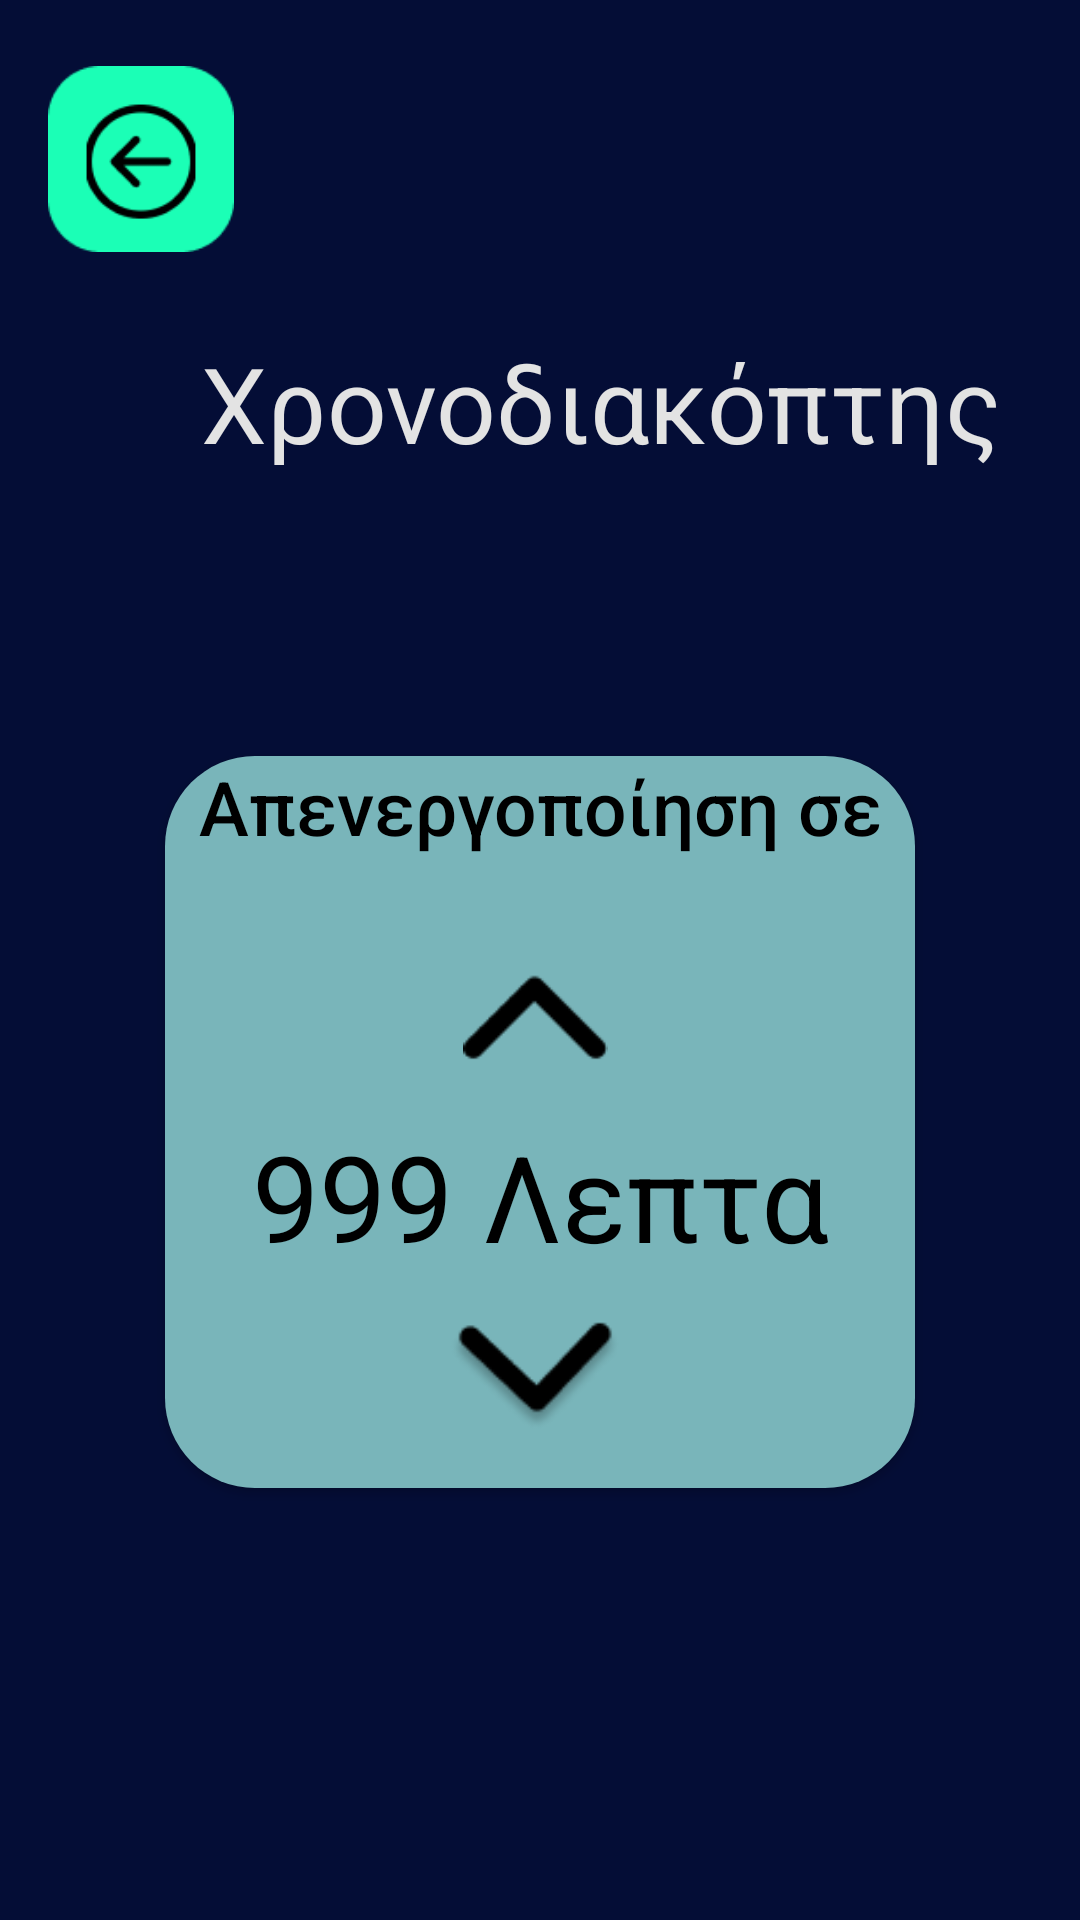

Locate icon controls on the screen. Image size 1080px×1920px, boxes as rect(x1, y1, x2, y2).
arrow down mini: rect(458, 1322, 612, 1420)
arrow up mini: rect(463, 976, 608, 1059)
back: rect(48, 66, 234, 252)
